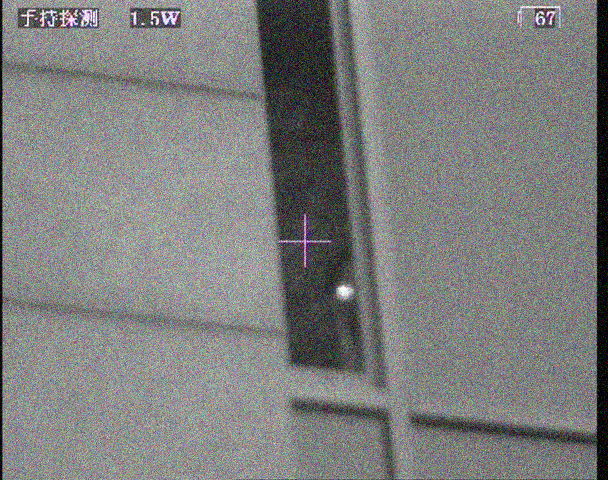my: (335, 283, 354, 299)
